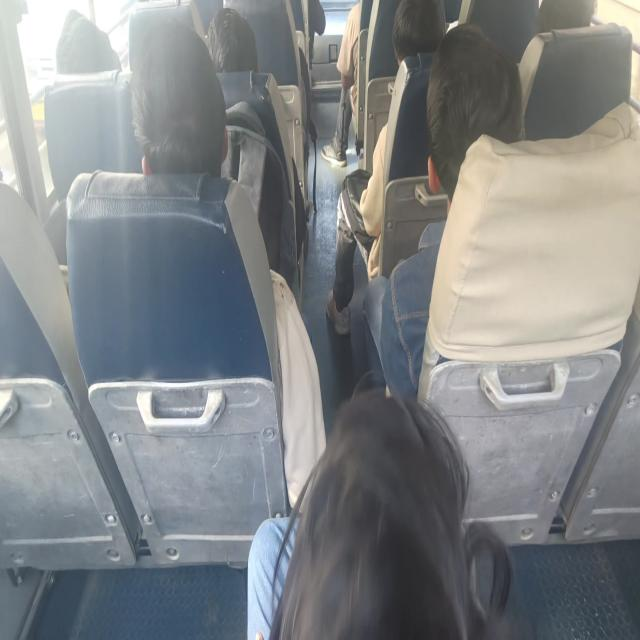person: (129, 17, 327, 508), (246, 386, 513, 638), (362, 22, 524, 400), (325, 0, 445, 335), (205, 7, 308, 296), (130, 17, 228, 176), (321, 1, 361, 167), (55, 9, 122, 74), (205, 6, 259, 73)
